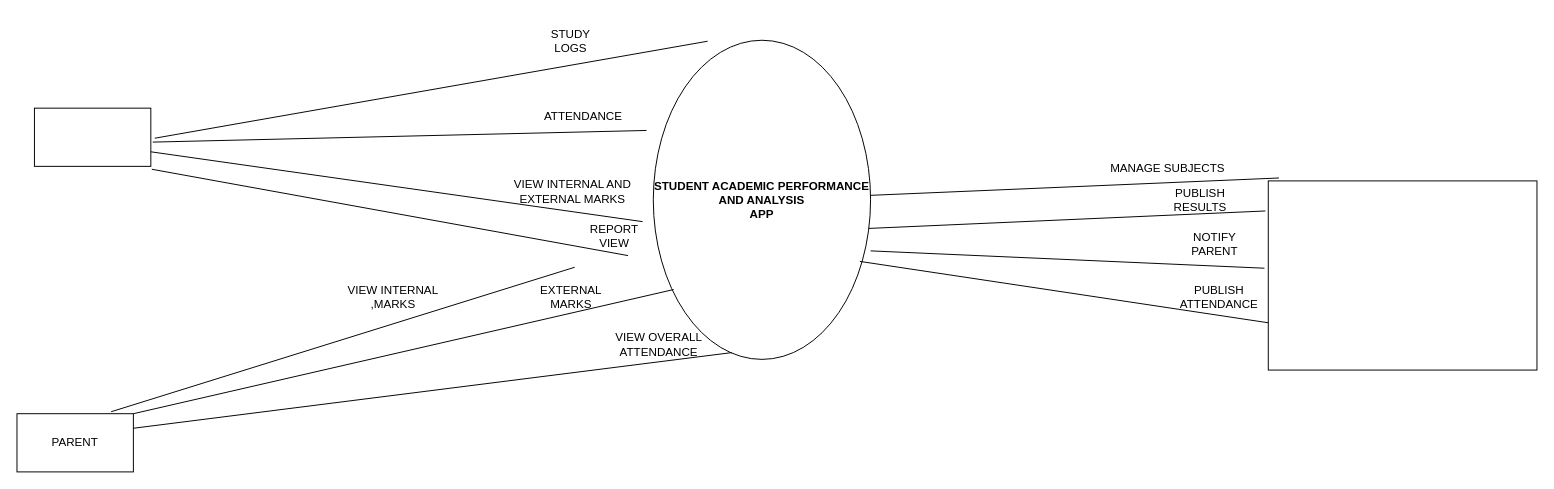
Image size: 1554x489. Some labels were removed from this diagram. Here are the shapes that lost their labels. From the top down, the box of each, then its label:
(33, 107, 151, 166): STUDENT/USER
(1267, 180, 1537, 370): ADMIN
